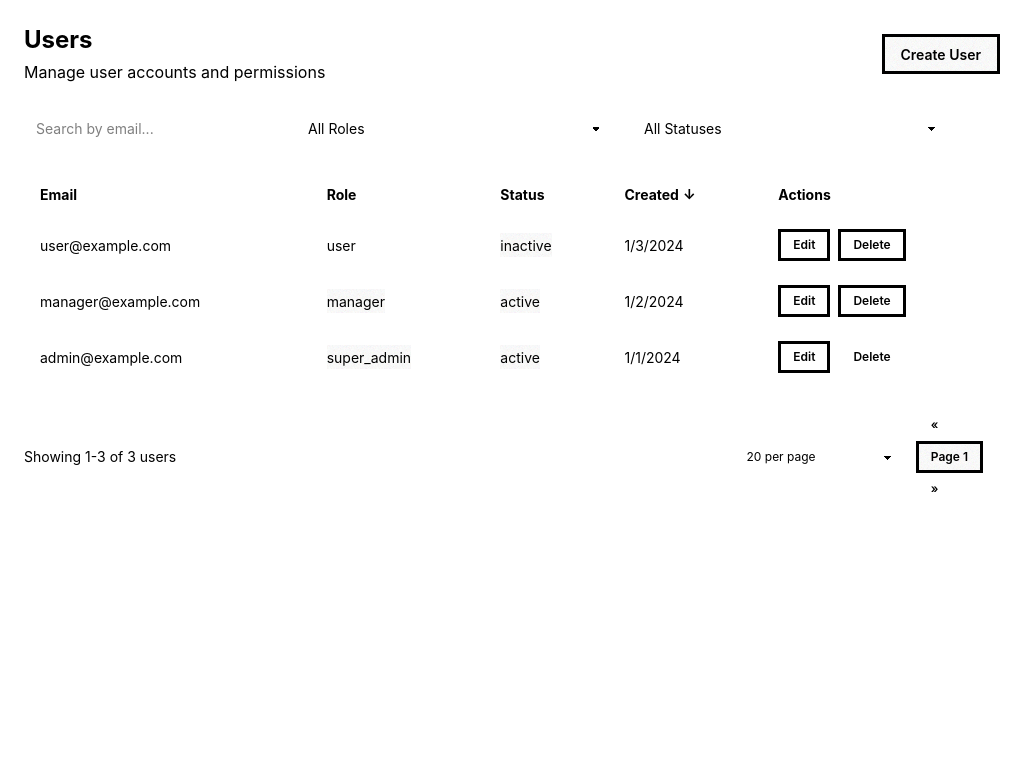
Test: UsersTable › Edit User Modal › should open edit modal when edit button clicked
Click the button with test id "edit-btn-user-2".
click(804, 301)  # box [778,285,830,317]
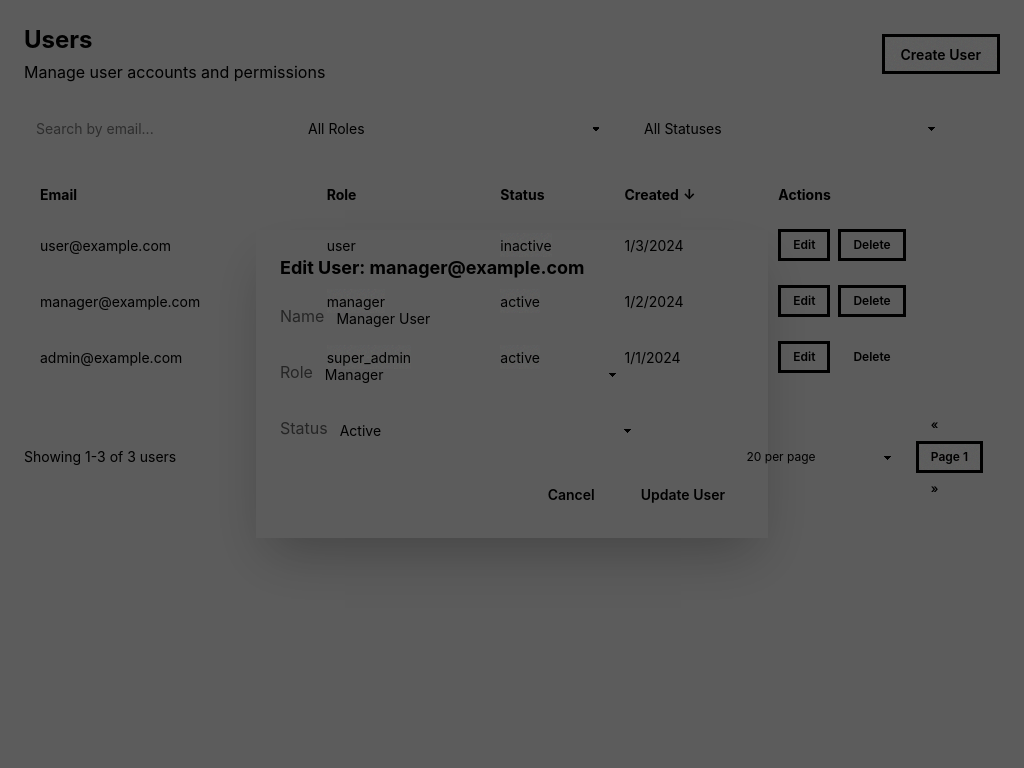
Result: the dialog with test id "edit-user-modal" is shown
